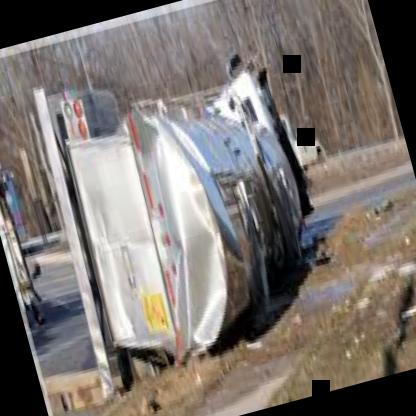accident: (13, 14, 361, 416)
